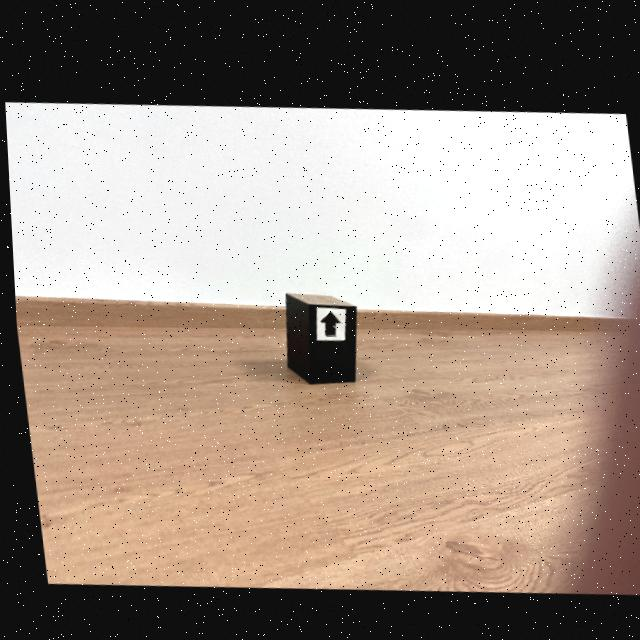UP: (317, 306, 338, 329)
